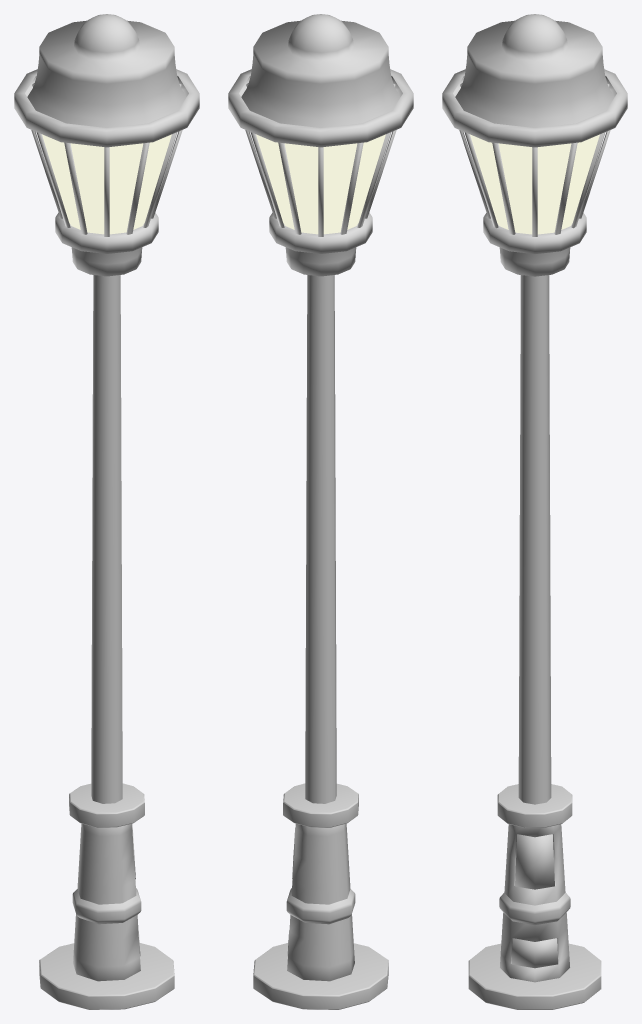
The model's file is lampPost4.fbx.
3 renders of one model, left to right at view 1: azimuth 30°, elevation 25°; view 2: azimuth 150°, elevation 25°; view 3: azimuth 270°, elevation 25°, orthographic.
Parts seen in each view (by area): view 1: Post.004; view 2: Post.004; view 3: Post.004.
Boxes of the visible parts, bbox=[...] form: Post.004: bbox=[14, 14, 199, 1009]; Post.004: bbox=[228, 14, 413, 1009]; Post.004: bbox=[442, 14, 627, 1009].
Size of the model in its own units: 84.66 by 486 by 84.66.
